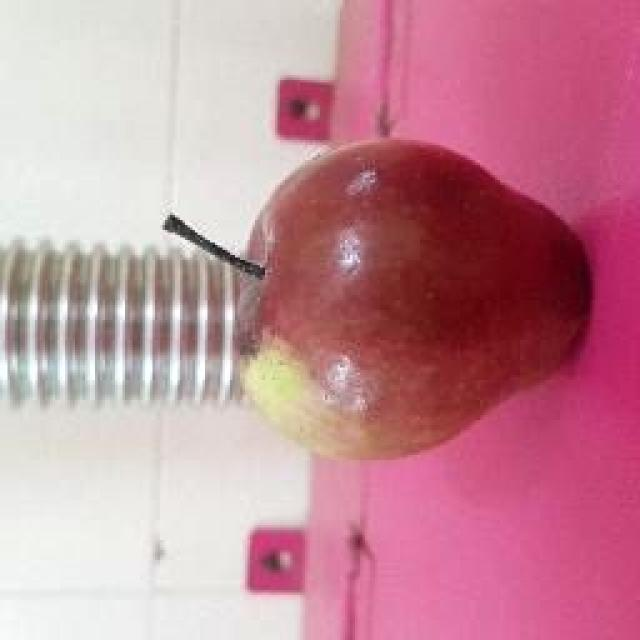Good_Apple: (162, 140, 595, 465)
